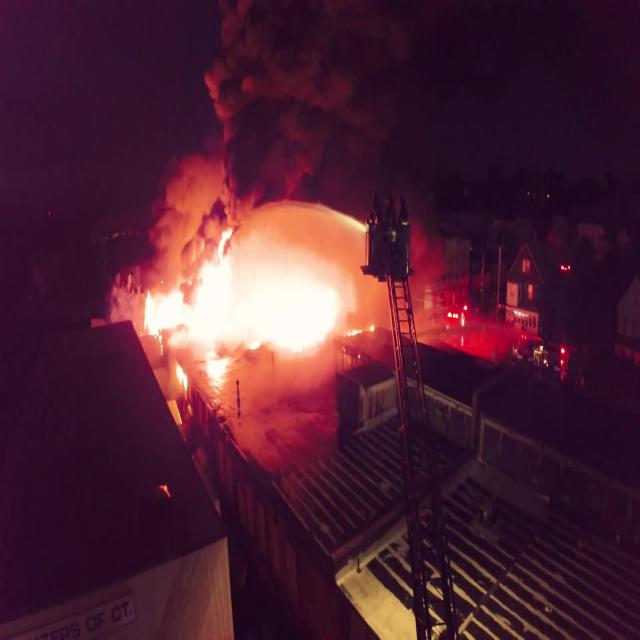Fire: (138, 239, 347, 364)
Smoke: (205, 0, 434, 216)
